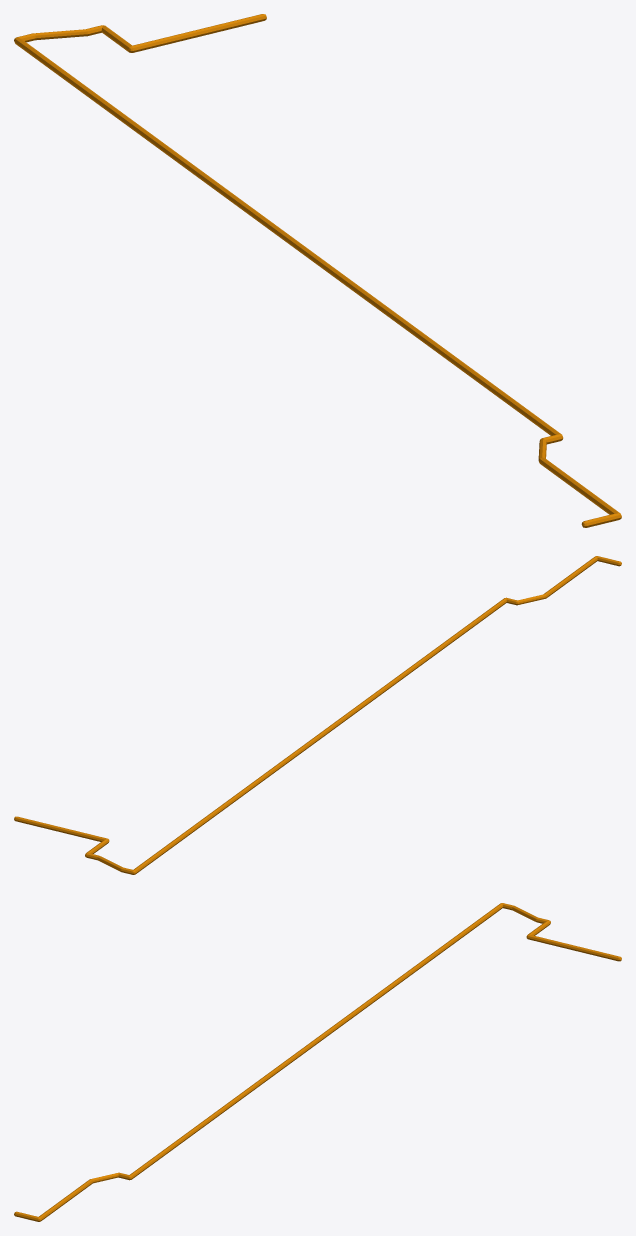
The picture shows the model from 3 angles, top to bottom: view 1: azimuth 30°, elevation 25°; view 2: azimuth 150°, elevation 25°; view 3: azimuth 330°, elevation 25°; orthographic projection. The views are drawn at different scales.
Bounding box in the file's own units: 864 × 20 × 3372.
